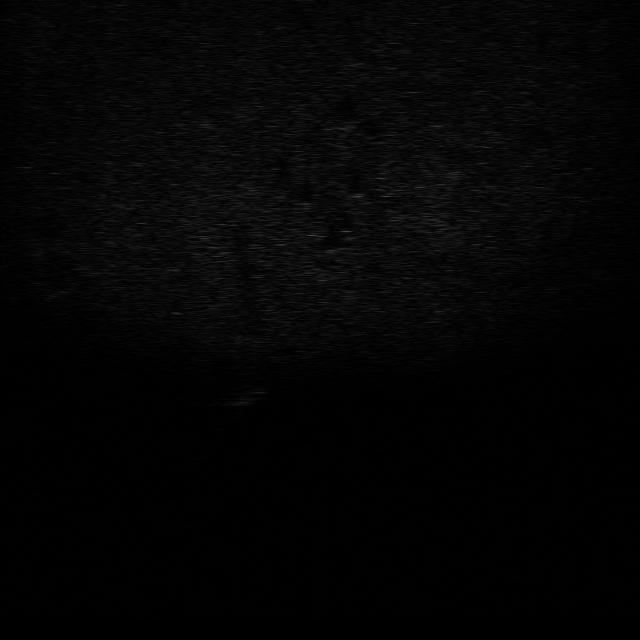human body: (220, 382, 268, 426)
